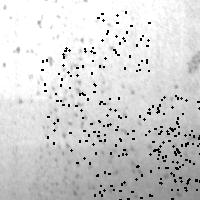pitted_surface: (23, 1, 144, 199), (159, 49, 198, 198), (97, 97, 154, 155), (92, 11, 148, 70), (47, 103, 99, 162), (41, 47, 94, 104), (156, 95, 200, 155), (156, 127, 200, 187), (94, 165, 150, 200), (158, 164, 200, 200), (171, 149, 200, 200)
